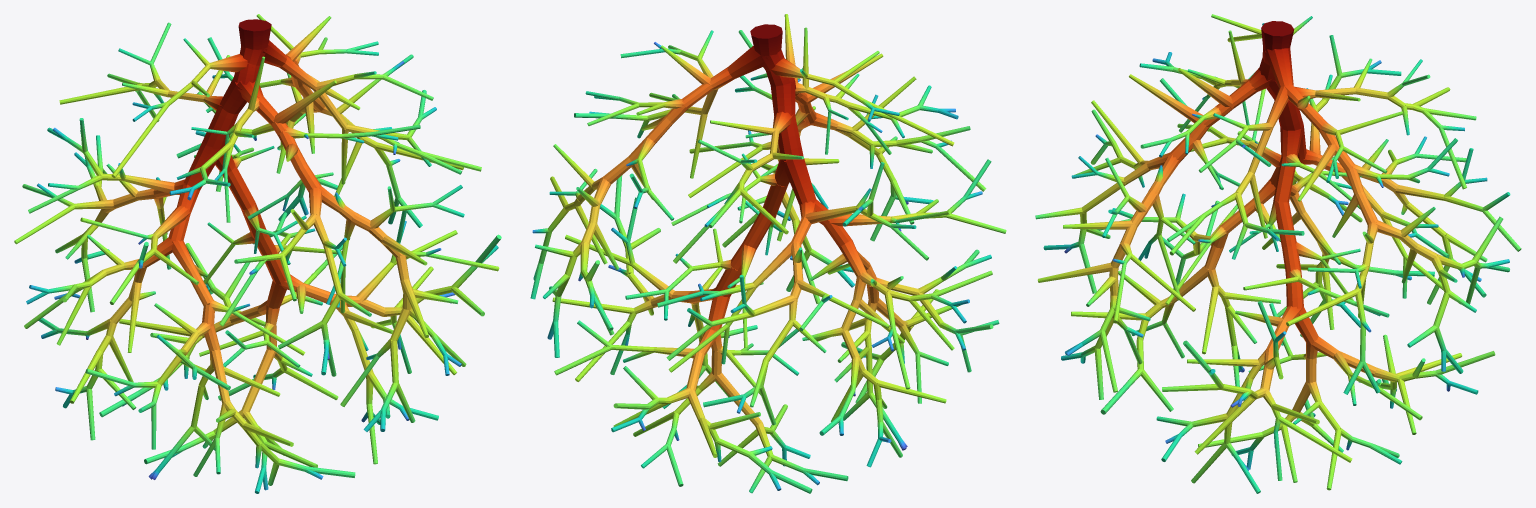
Rendered from 43_res.gltf.
3 renders of one model, left to right at view 1: azimuth 30°, elevation 25°; view 2: azimuth 150°, elevation 25°; view 3: azimuth 270°, elevation 25°, orthographic. The views are drawn at different scales.
Parts seen in each view (by area): view 1: Renderer Node; view 2: Renderer Node; view 3: Renderer Node.
Part boxes in pixels (x1,y1,x2,y2): Renderer Node: (14, 14, 501, 493); Renderer Node: (530, 14, 1006, 493); Renderer Node: (1035, 14, 1521, 493).
Bounding box in the file's own units: 33.36 × 33.52 × 33.29.
Materials: 1 (1 with a texture image).
